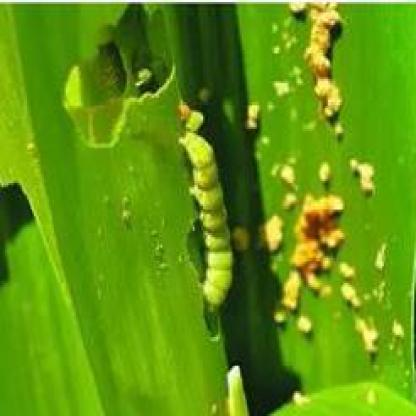armyworm: (178, 123, 238, 313)
